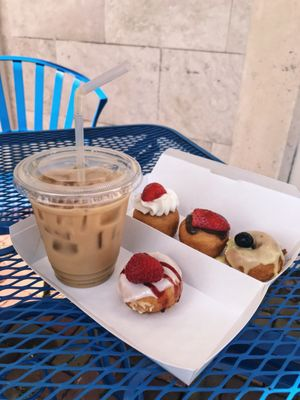pizza: (10, 145, 142, 288)
